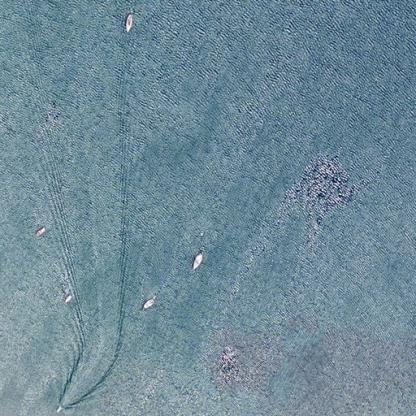ship: (189, 250, 205, 271), (139, 297, 156, 309), (123, 12, 132, 33), (33, 225, 45, 237), (20, 288, 30, 298), (12, 403, 21, 413)
